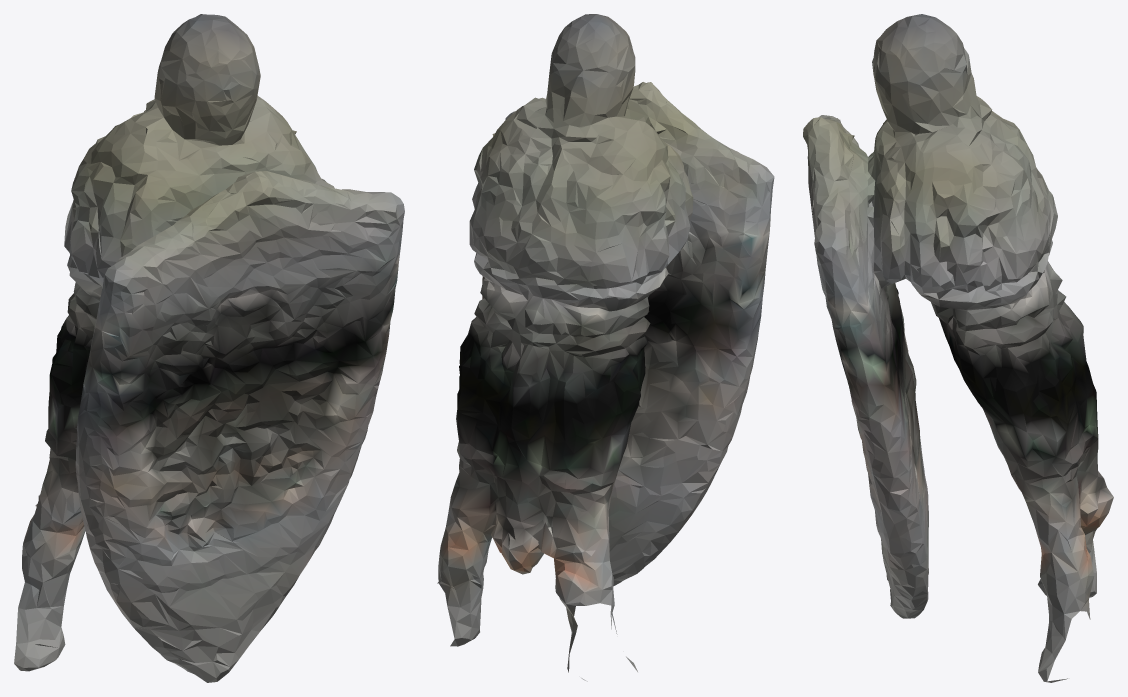
The model's file is rook.glb.
The picture shows the model from 3 angles, left to right: view 1: azimuth 30°, elevation 25°; view 2: azimuth 150°, elevation 25°; view 3: azimuth 270°, elevation 25°; orthographic projection. The views are drawn at different scales.
Parts seen in each view (by area): view 1: world; view 2: world; view 3: world.
Boxes of the visible parts, left/top/right/bottom form: world: left=14, top=14, right=404, bottom=682; world: left=437, top=14, right=774, bottom=681; world: left=803, top=14, right=1113, bottom=682.
Size of the model in its own units: 0.4736 by 1 by 0.4533.
